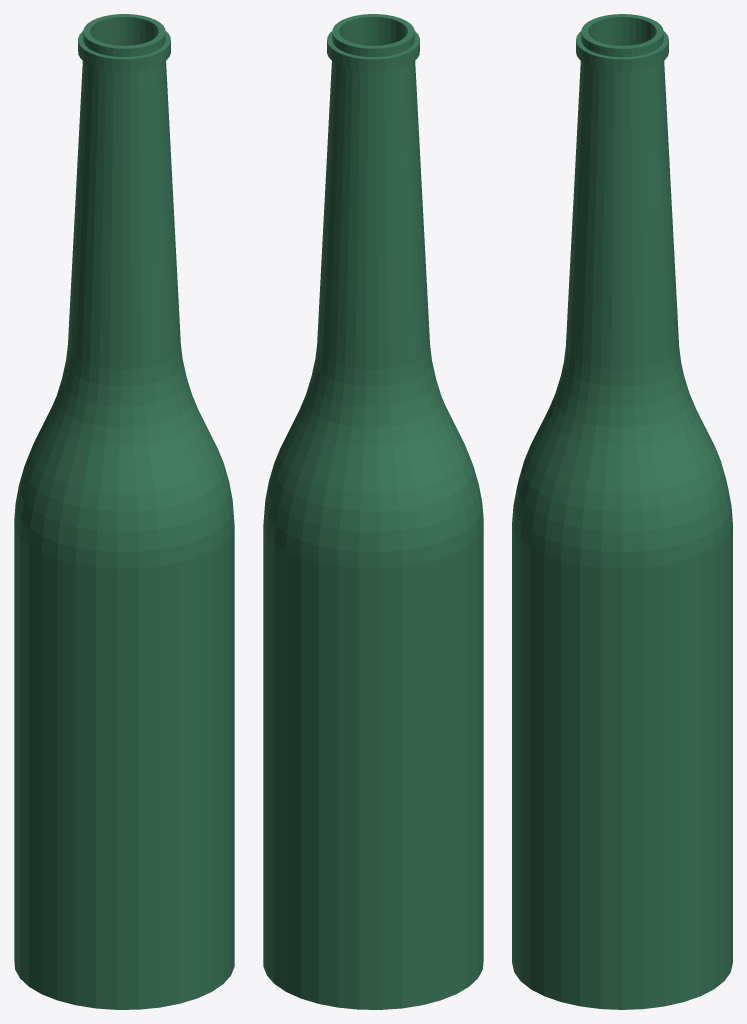
File: WineBottle.dae
The picture shows the model from 3 angles, left to right: view 1: azimuth 30°, elevation 25°; view 2: azimuth 150°, elevation 25°; view 3: azimuth 270°, elevation 25°; orthographic projection.
Visible parts, largest first — view 1: Cylinder.001; view 2: Cylinder.001; view 3: Cylinder.001.
Part boxes in pixels (box(x1,y1,x2,y2)): Cylinder.001: box(14, 14, 234, 1009); Cylinder.001: box(263, 14, 483, 1009); Cylinder.001: box(512, 14, 732, 1009).
Bounding box in the file's own units: 0.0721 × 0.0721 × 0.3357.
